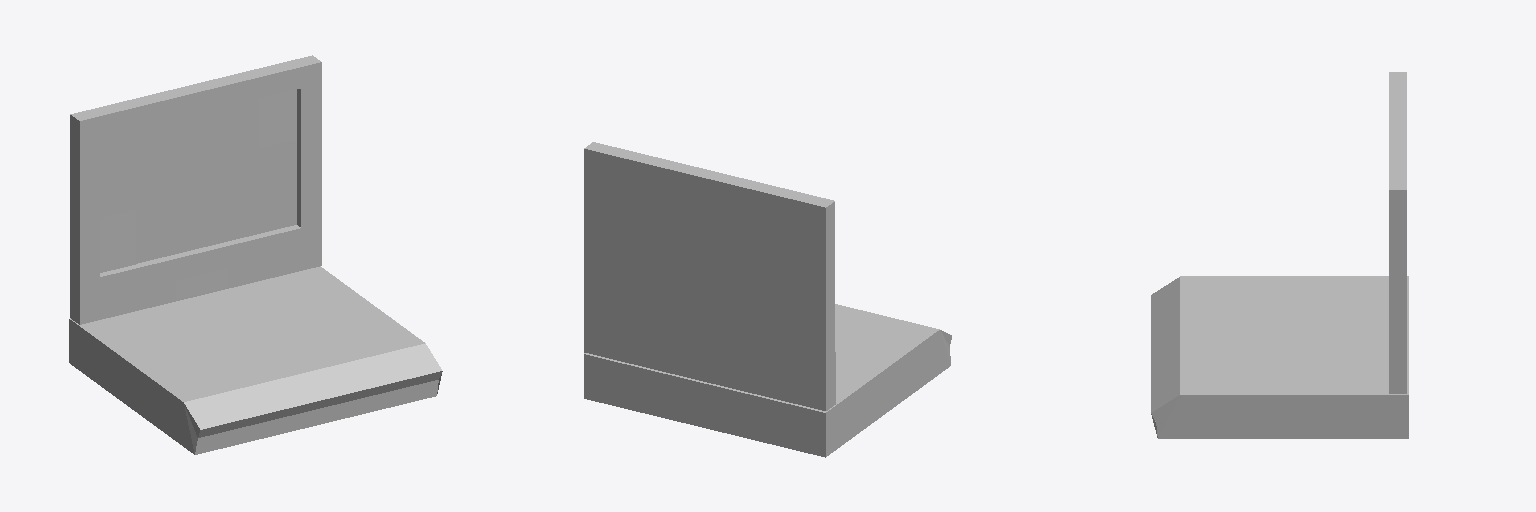
The model's file is prototipobueno.obj.
3 renders of one model, left to right at view 1: azimuth 30°, elevation 25°; view 2: azimuth 150°, elevation 25°; view 3: azimuth 270°, elevation 25°, orthographic.
Parts seen in each view (by area): view 1: Circle; view 2: Circle; view 3: Circle.
Boxes of the visible parts, <box> form: Circle: <box>69,55,442,454</box>; Circle: <box>584,142,951,457</box>; Circle: <box>1151,72,1408,438</box>.
Size of the model in its own units: 0.7472 by 0.7285 by 0.683.